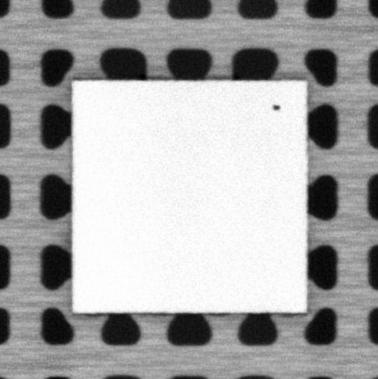DIE_INK: (270, 101, 284, 112)
